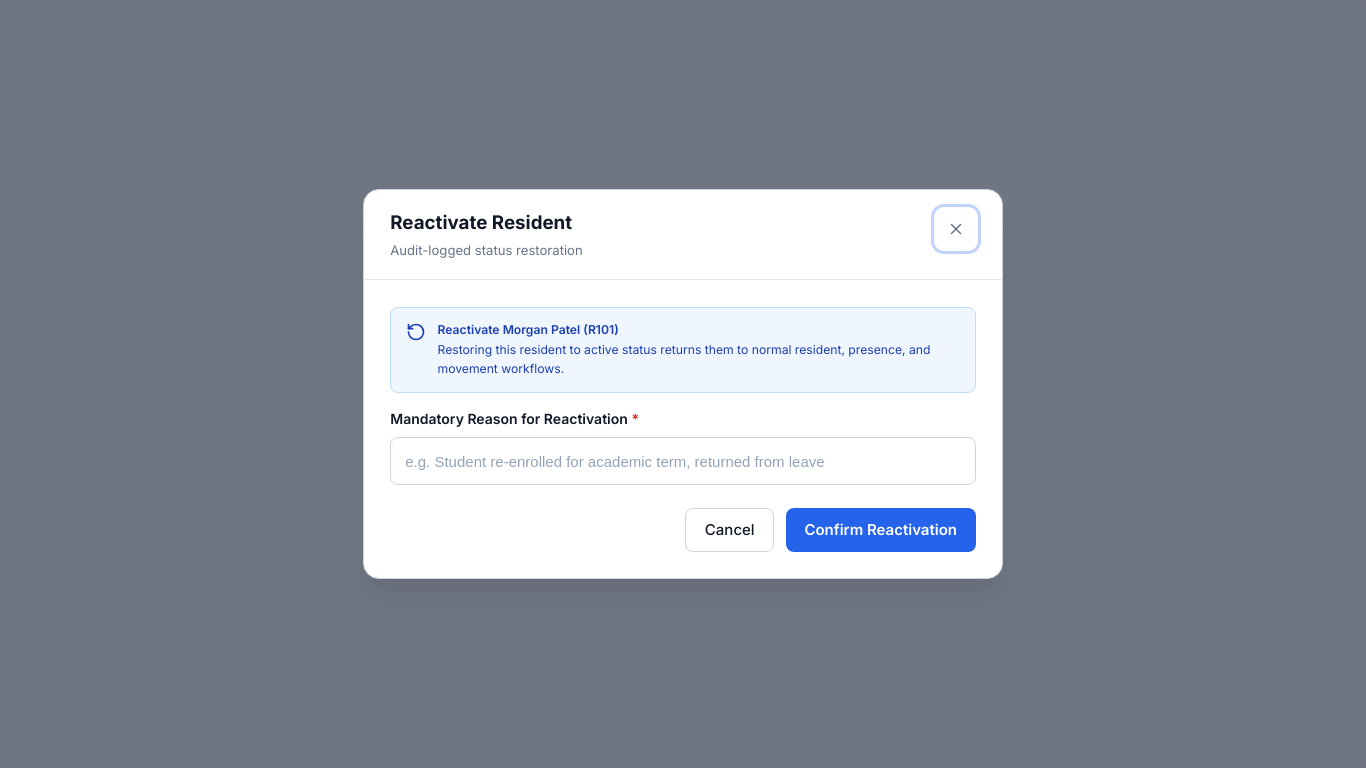
Scenario: Resident Operations & Modals › Reactivate Resident Workflow › requires a mandatory reason before reactivation submission
Click the button "Confirm Reactivation" at (881, 530), box [786,508,976,552]
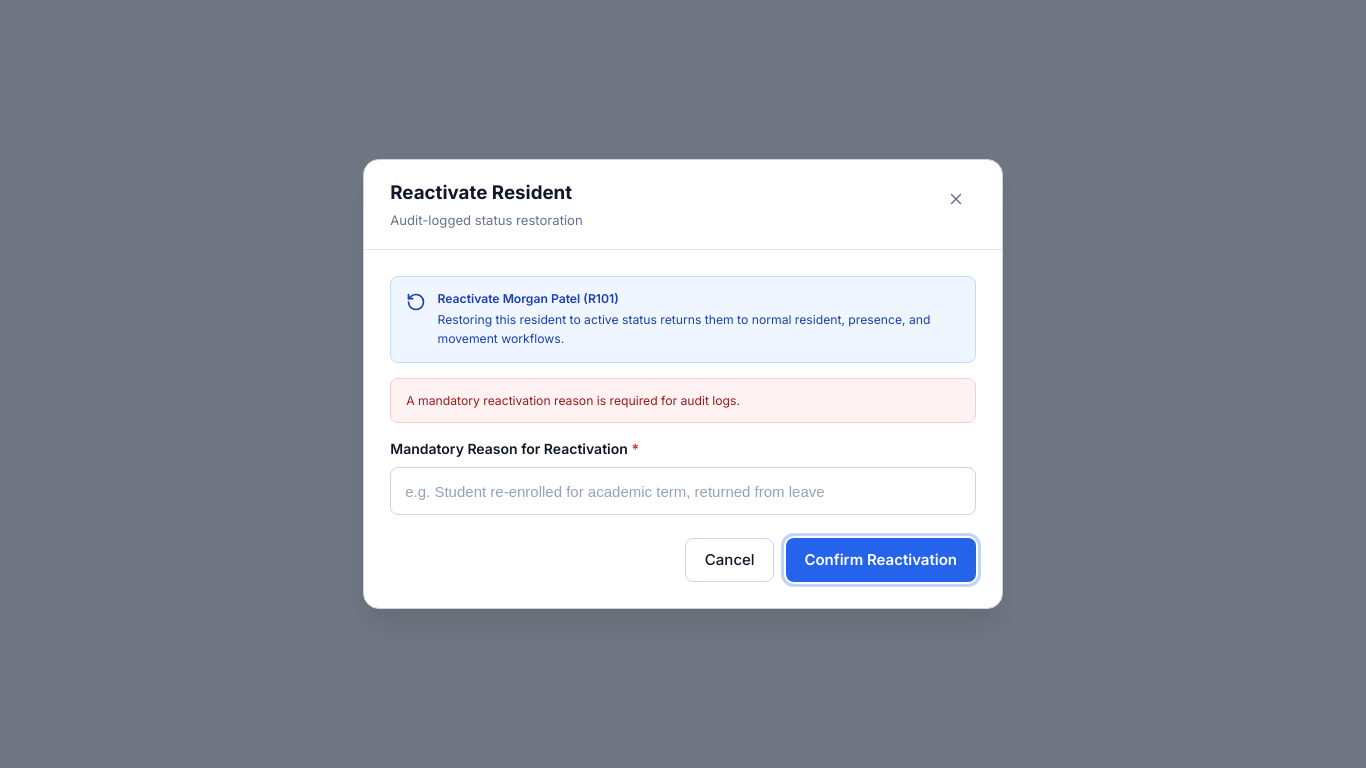
Check: the text "A mandatory reactivation reason is required for audit logs." is shown, box [406,392,740,409]
